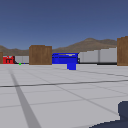blue_basket: (52, 53, 78, 64)
blue_cube: (69, 64, 76, 70), (67, 63, 70, 69)
green_cube: (18, 62, 21, 65)
obstacle: (29, 44, 52, 65), (117, 36, 128, 66), (1, 52, 3, 64)
red_basket: (3, 56, 15, 64)
